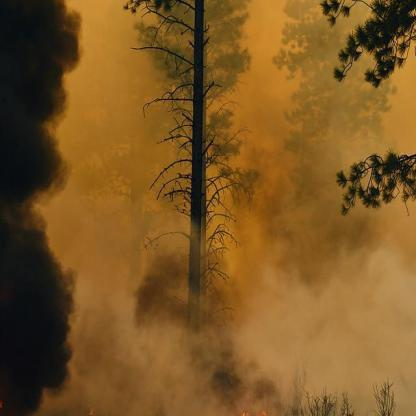smoke: (18, 14, 112, 392), (252, 211, 400, 380)
